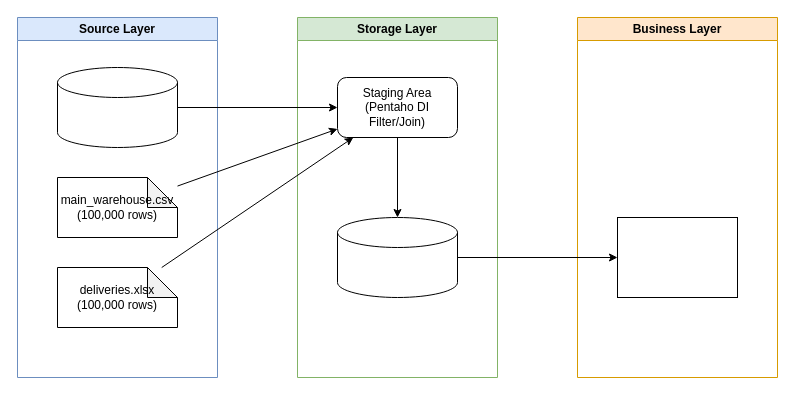
Image size: 795x395. Some labels were removed from this diagram. The centre of each missing label's shape, as x and y in pixels:
"Data Mart View (view_analytics_report)" belongs at pixel 677 257.
"MySQL Target inventory_analysis (~100,000 rows)" belongs at pixel 397 257.
"PostgreSQL retail_stores (1,000,000 rows)" belongs at pixel 117 107.
